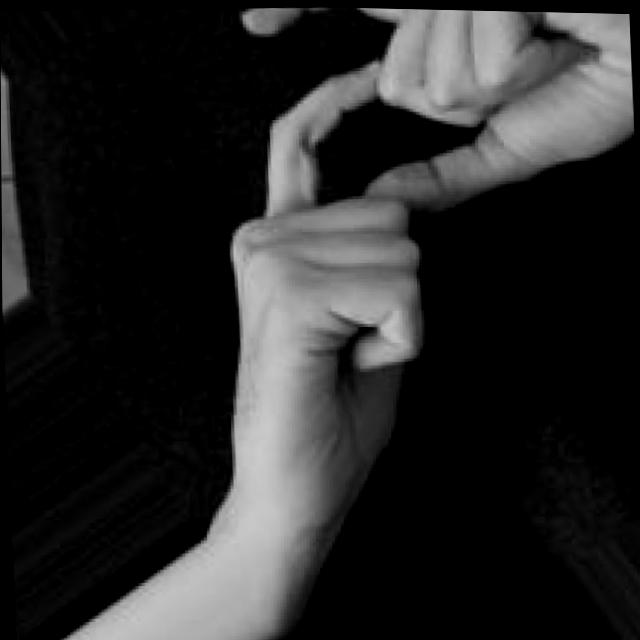G: (184, 4, 640, 549)
